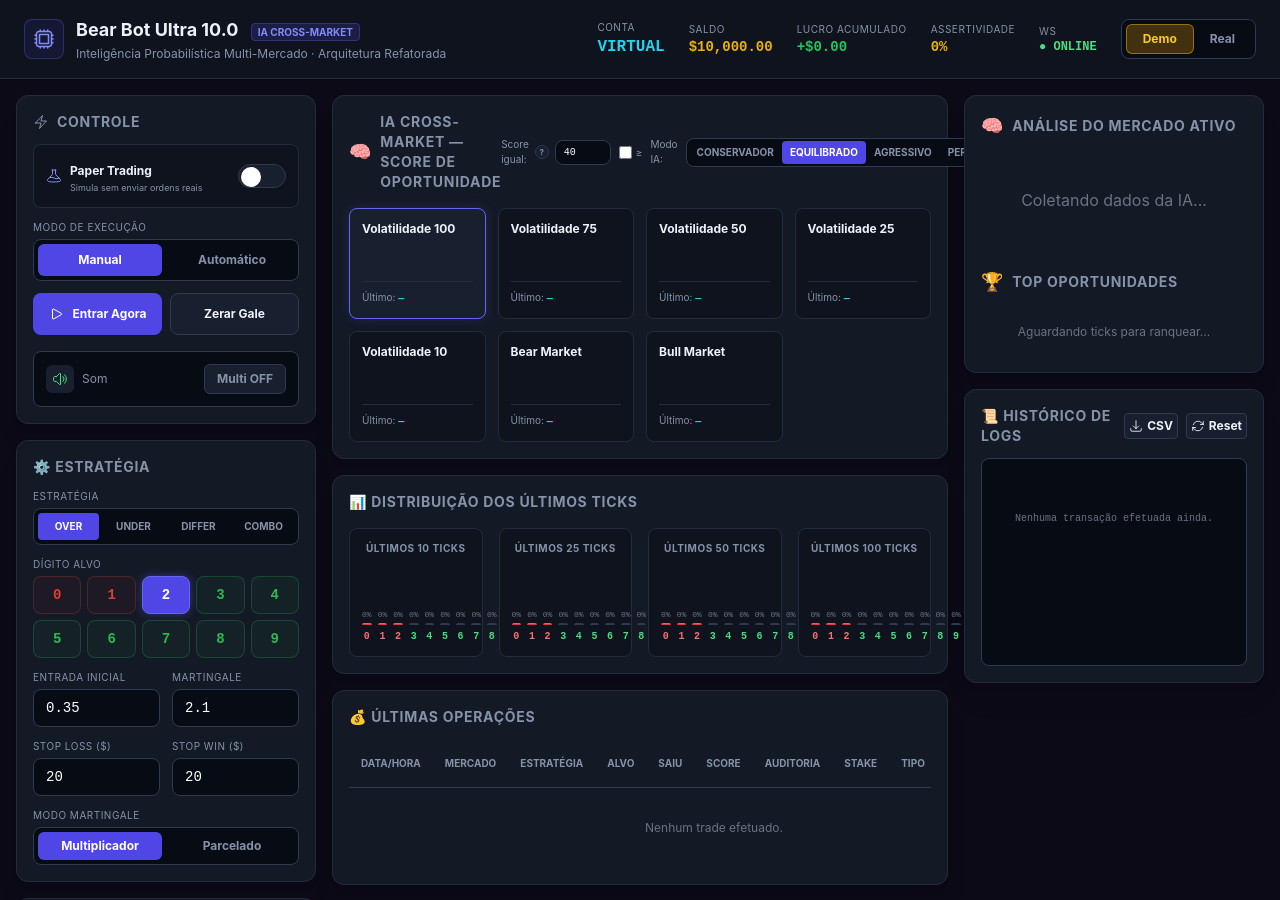
it: BearBotUltra 2.0 Component › ao alternar Paper Trading ou alternar entre Demo e Real, reseta o estado de operação
Liga Paper Trading
Step 1. Click the button without text next to "Simula sem enviar ordens reais" → (262,176), box top-left (238, 164), bottom-right (286, 188)
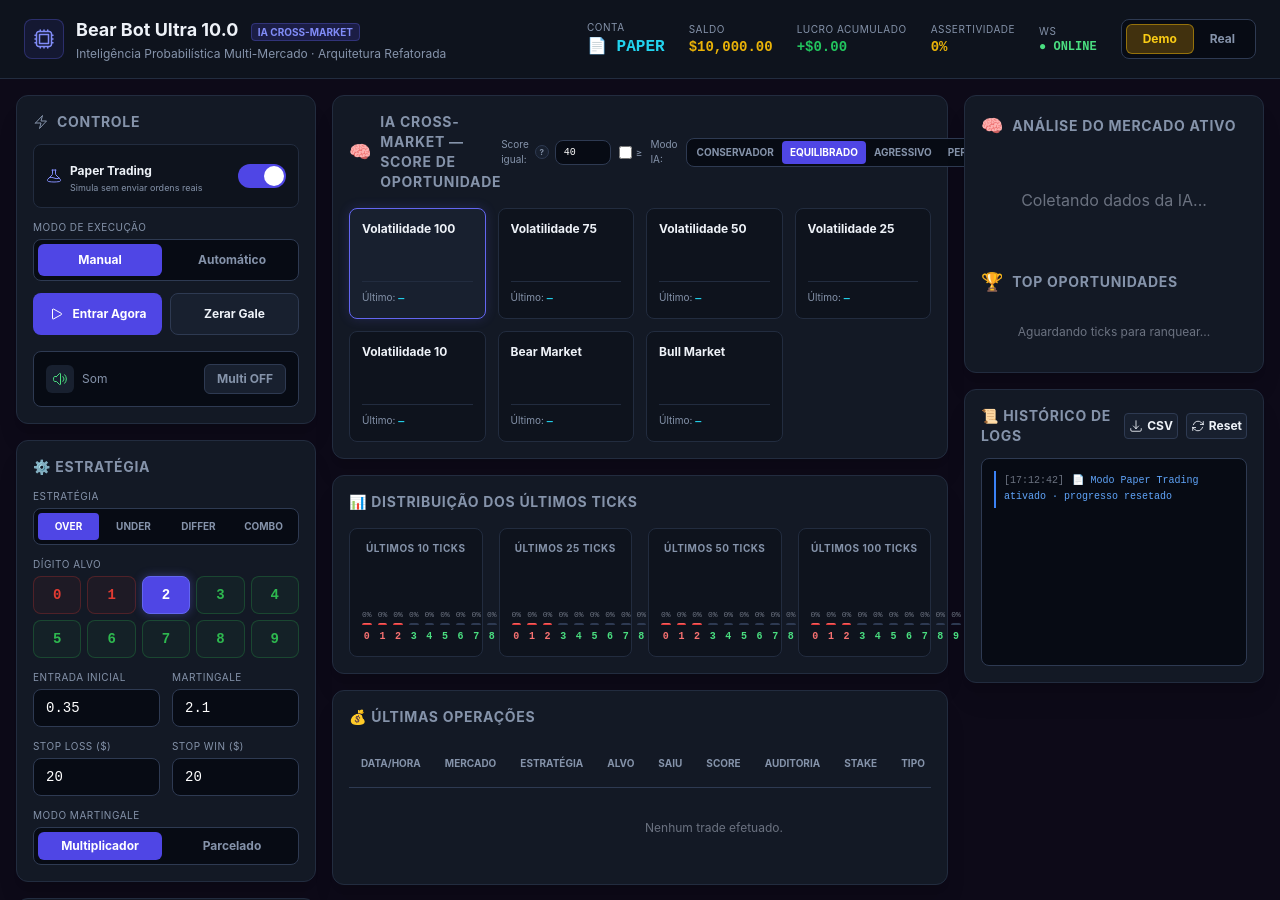
Result: the text "📄 PAPER" is shown at top-left (587, 34), bottom-right (665, 58)
Desliga Paper Trading
Step 2. Click the button without text next to "Simula sem enviar ordens reais" → (262,176), box top-left (238, 164), bottom-right (286, 188)
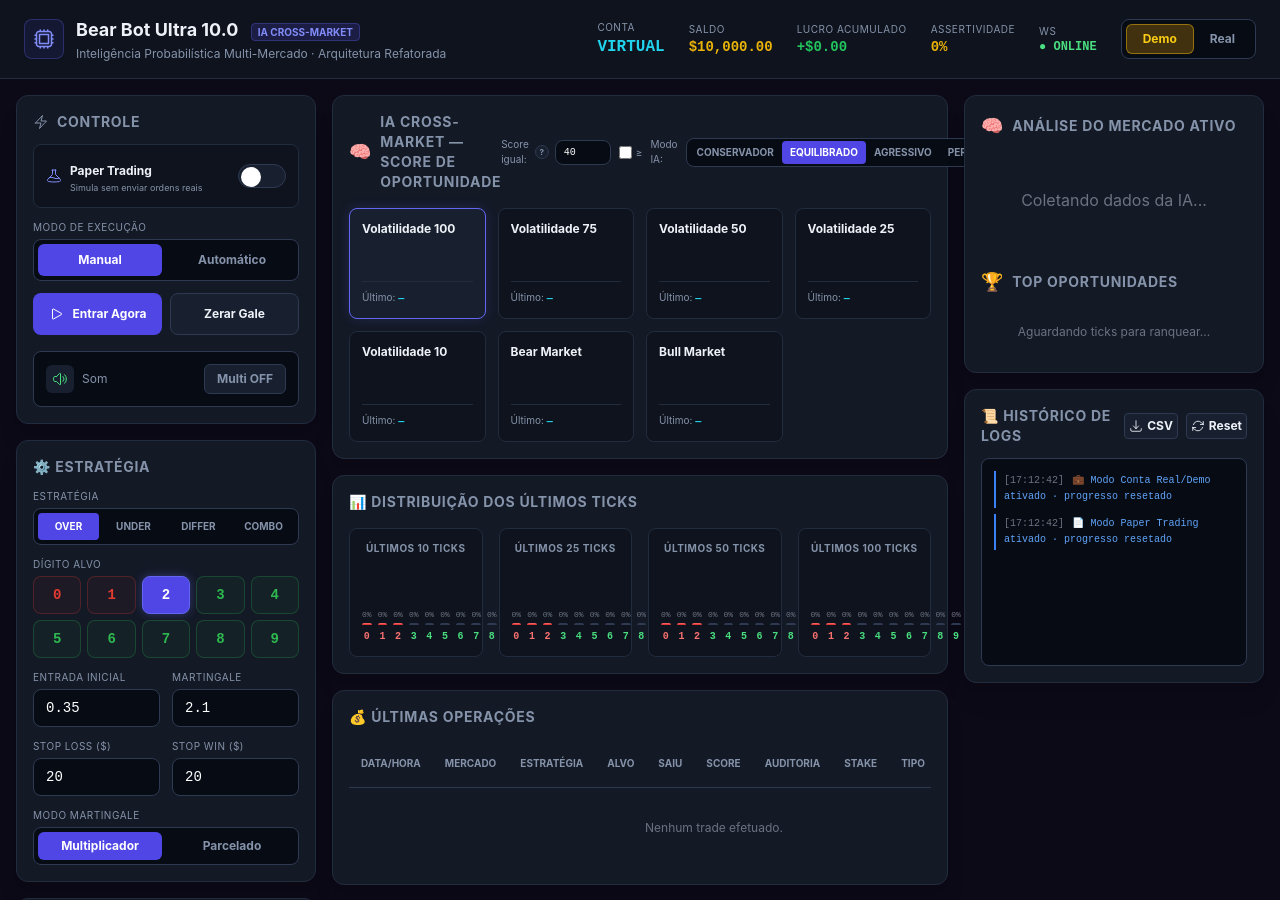
Result: the text "📄 PAPER" is gone
Clicar em Real troca de conta e desativa paper mode caso ativo
Step 3. Click the button without text next to "Simula sem enviar ordens reais" → (262,176), box top-left (238, 164), bottom-right (286, 188)
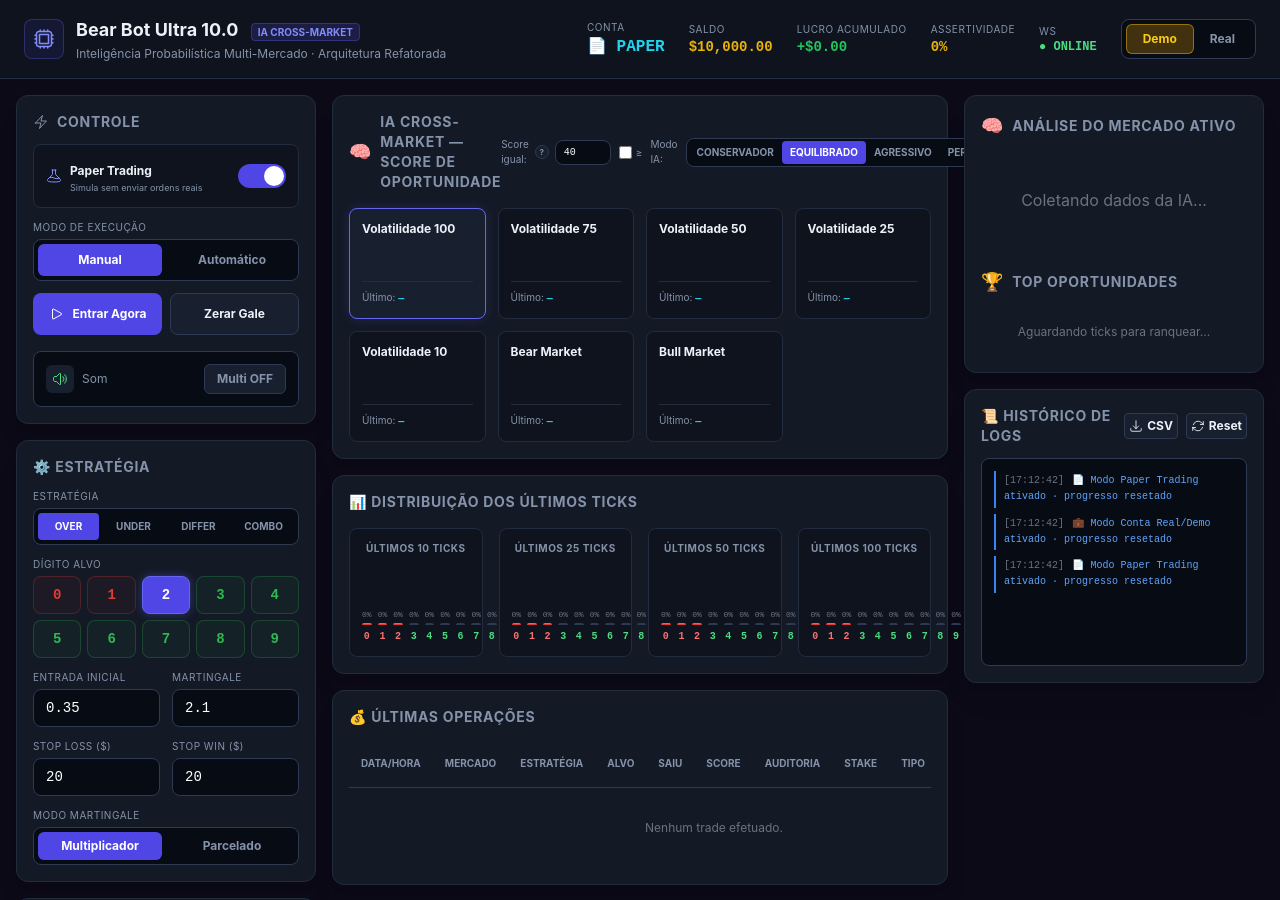
Result: the text "📄 PAPER" is shown at top-left (587, 34), bottom-right (665, 58)
Step 4. Click the button "Real" → (1222,39), box top-left (1194, 25), bottom-right (1251, 53)
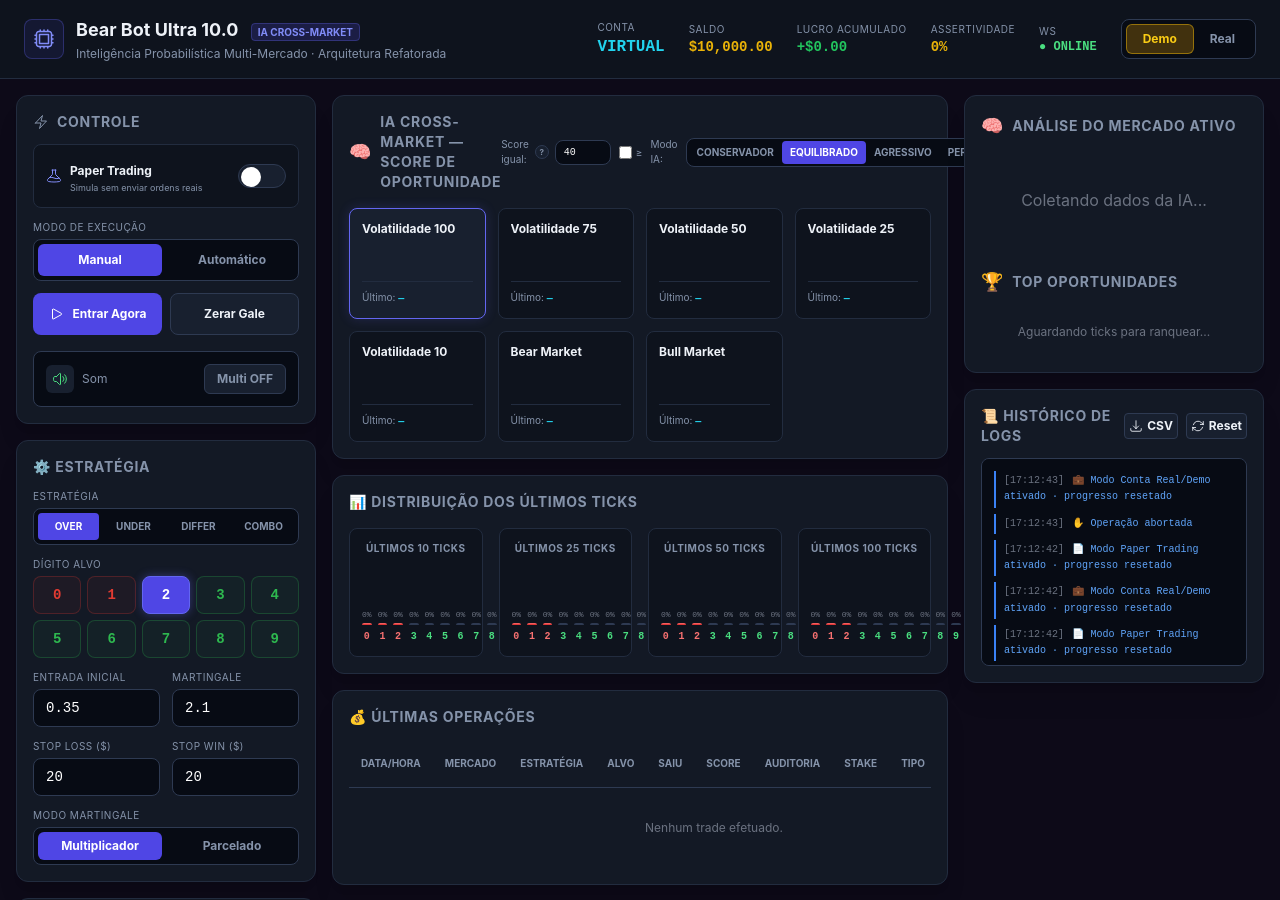
Result: the text "📄 PAPER" is gone
